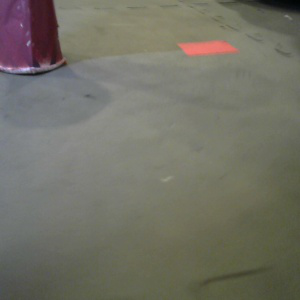middle: (1, 1, 66, 73)
